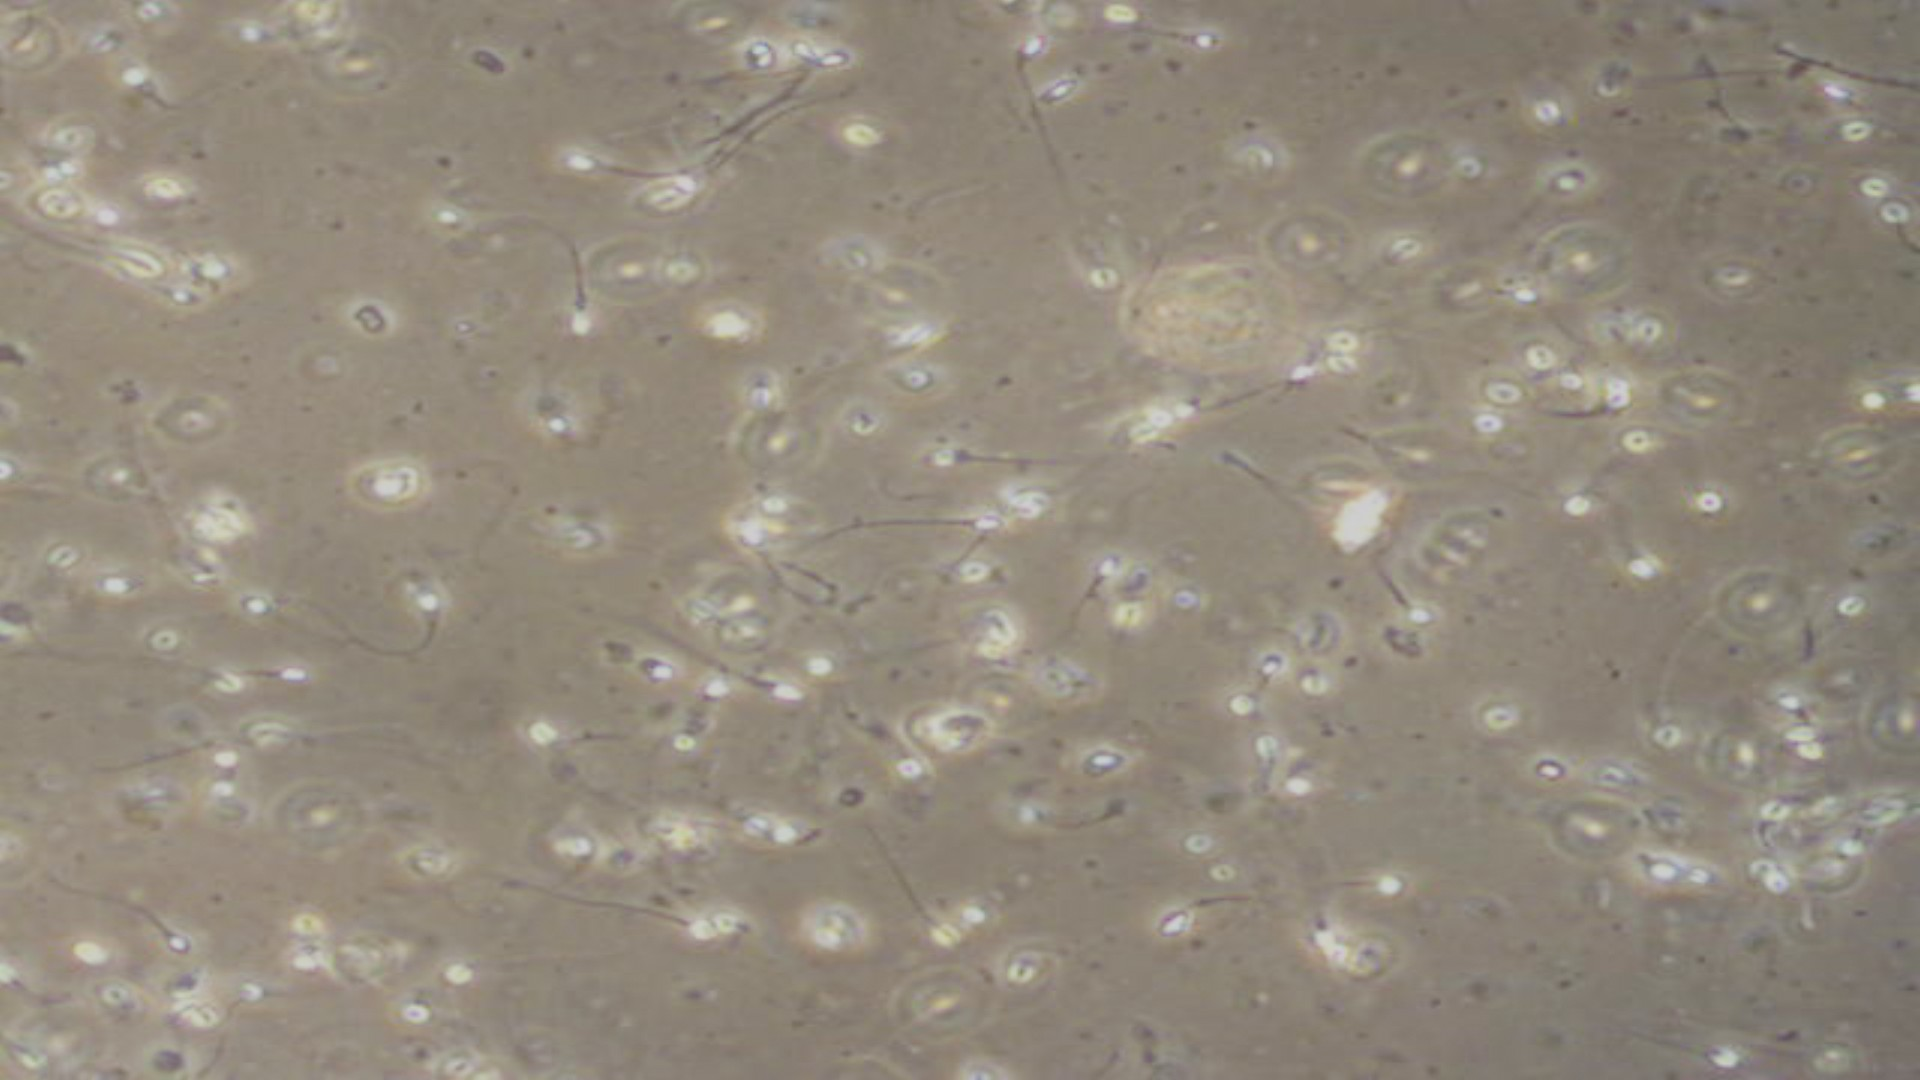sperm: (984, 24, 1098, 153), (47, 873, 196, 967), (650, 636, 810, 711), (1127, 878, 1271, 961), (556, 878, 707, 948), (353, 578, 463, 670), (833, 506, 996, 553), (563, 125, 676, 179), (534, 268, 609, 345), (905, 443, 1069, 477)
